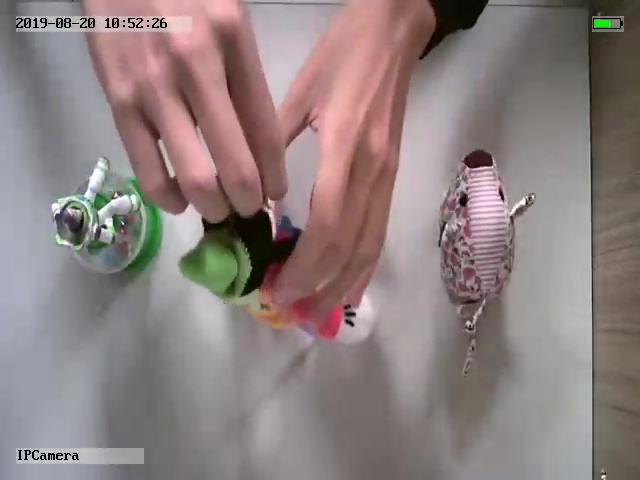buzz: (50, 157, 163, 278)
pig: (436, 148, 535, 377)
